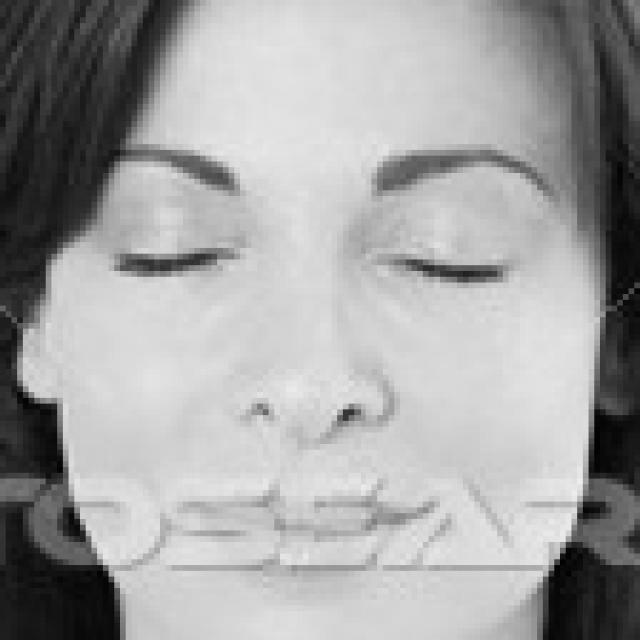real: (22, 0, 570, 626), (106, 180, 522, 301)
